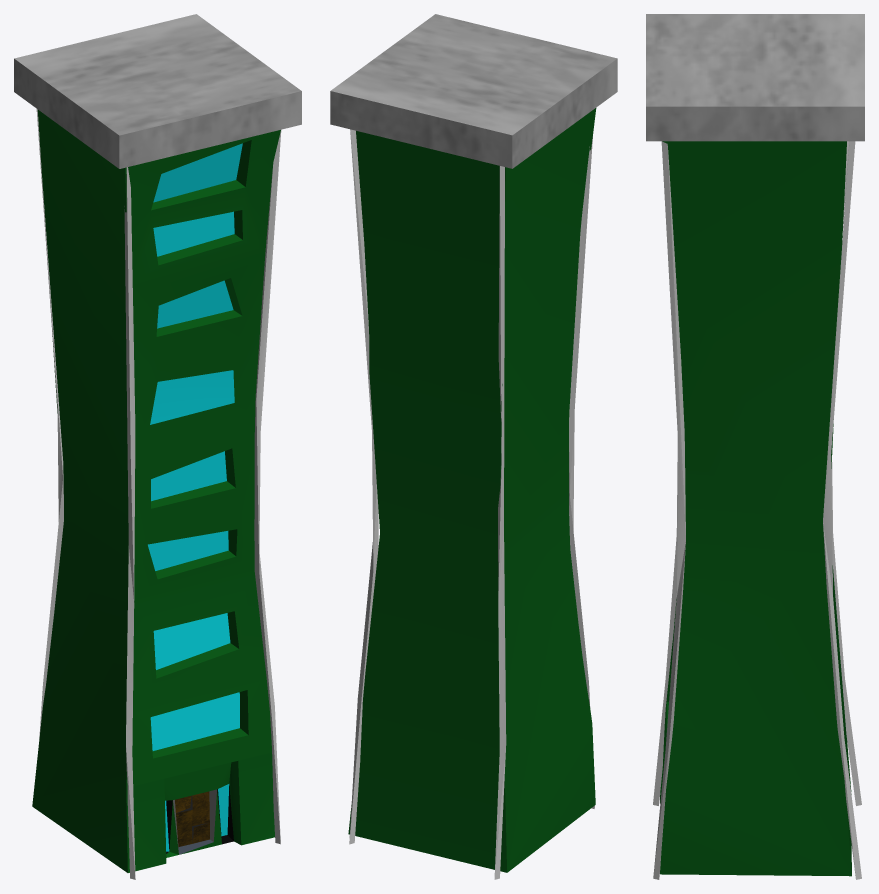
File: PredioAltoFino-VerdeEscuroLOD1.fbx
3 views of the same model, side by side, from view 1: azimuth 30°, elevation 25°; view 2: azimuth 150°, elevation 25°; view 3: azimuth 270°, elevation 25° (orthographic). The views are drawn at different scales.
Visible parts, largest first — view 1: PredioAltoFinoLOD1; view 2: PredioAltoFinoLOD1; view 3: PredioAltoFinoLOD1.
Boxes of the visible parts, <box> form: PredioAltoFinoLOD1: <box>14,14,301,879</box>; PredioAltoFinoLOD1: <box>330,14,617,879</box>; PredioAltoFinoLOD1: <box>646,14,864,879</box>.
Size of the model in its own units: 635 by 2498 by 635.
